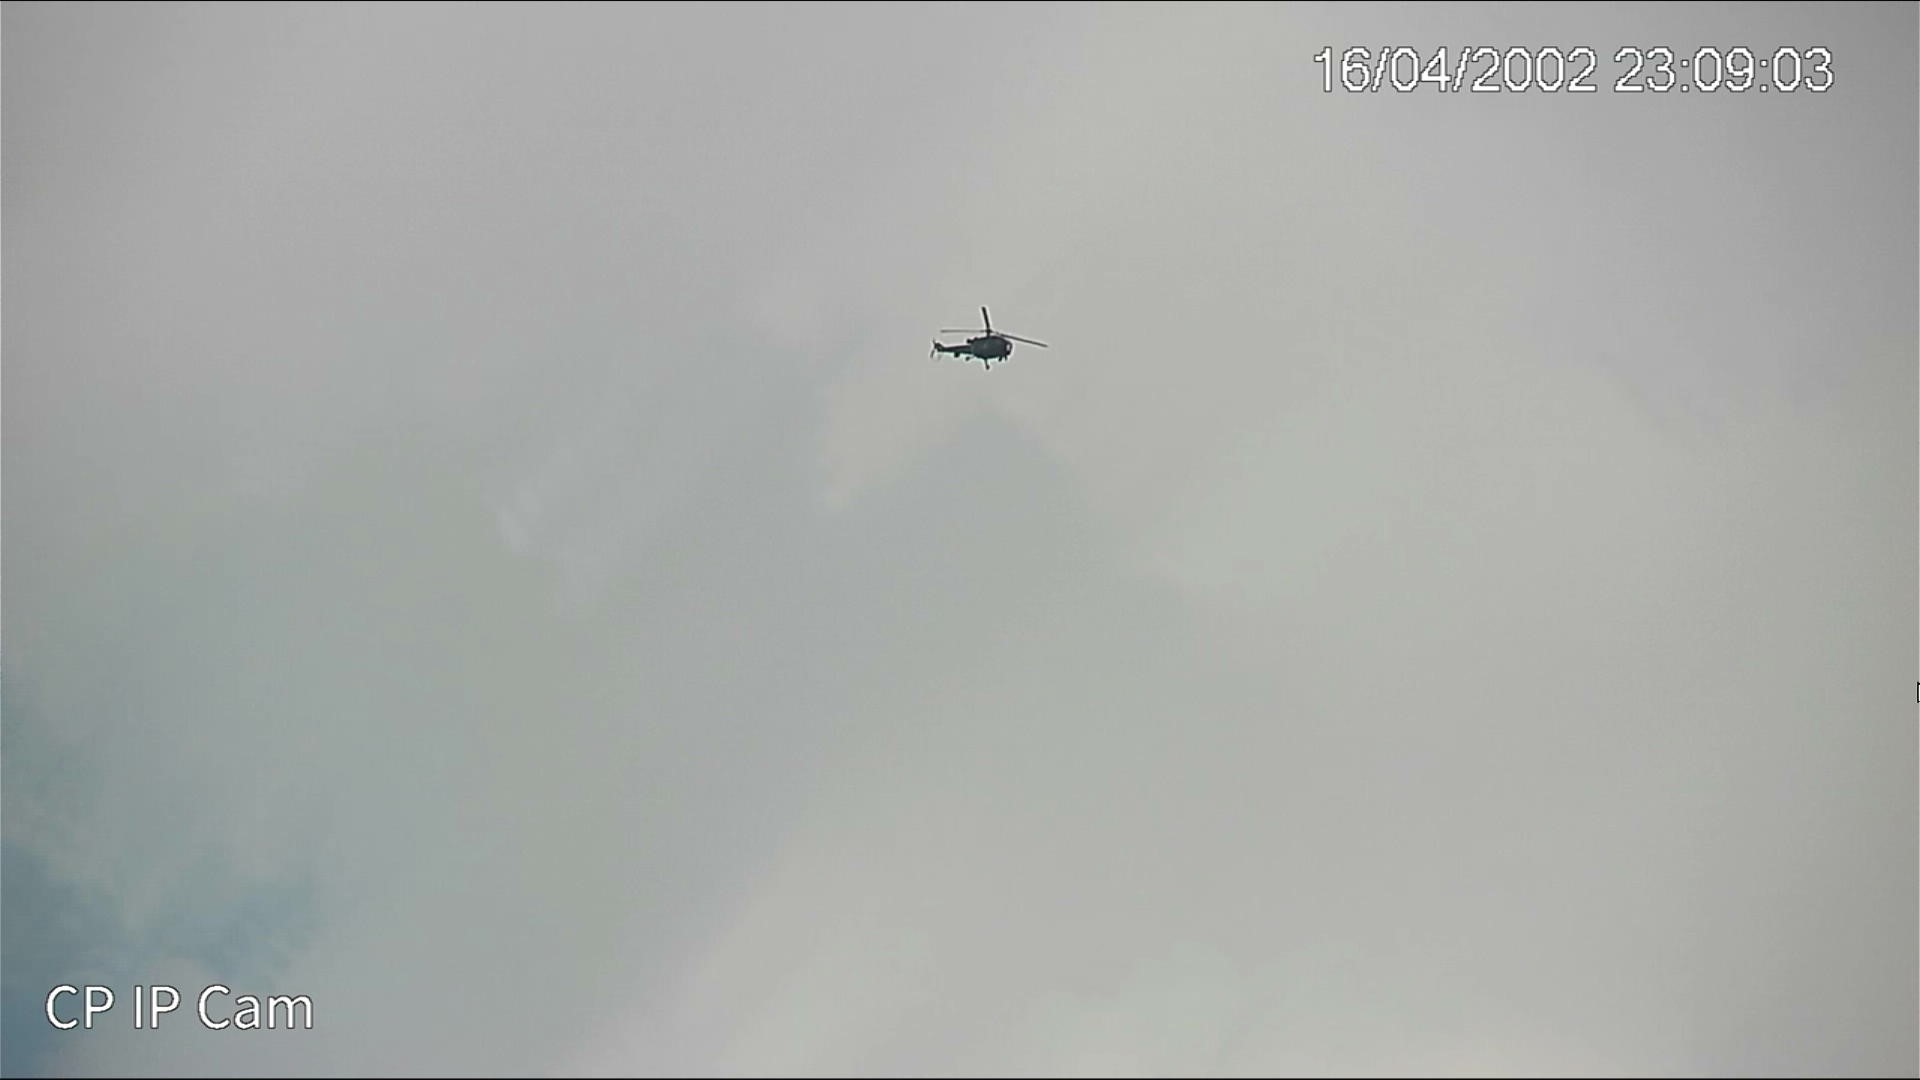SU_30: (926, 324, 1022, 364)
